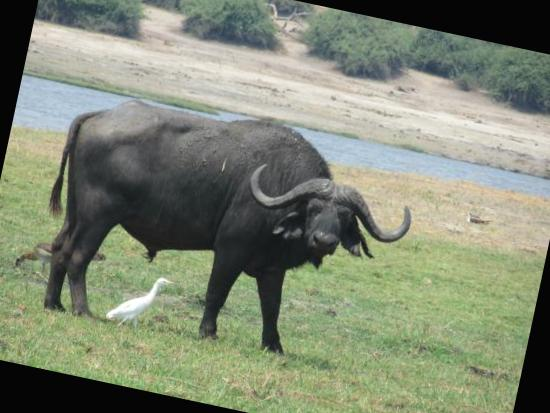Buffalo: (0, 48, 427, 413)
